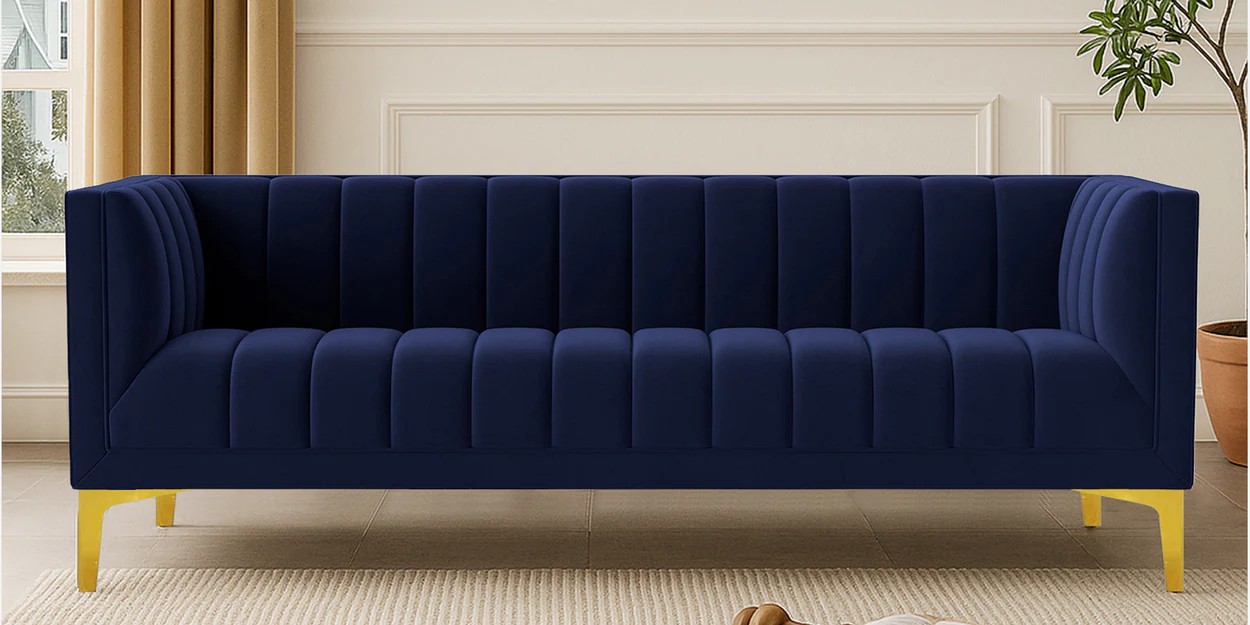3seatersofa: (66, 175, 1197, 591)
backrest: (181, 176, 1081, 331)
leftarmrest: (1059, 176, 1197, 484)
leg: (77, 489, 184, 591), (1078, 489, 1183, 591)
rightarmrest: (66, 177, 203, 488)
seat: (104, 328, 1173, 487)
